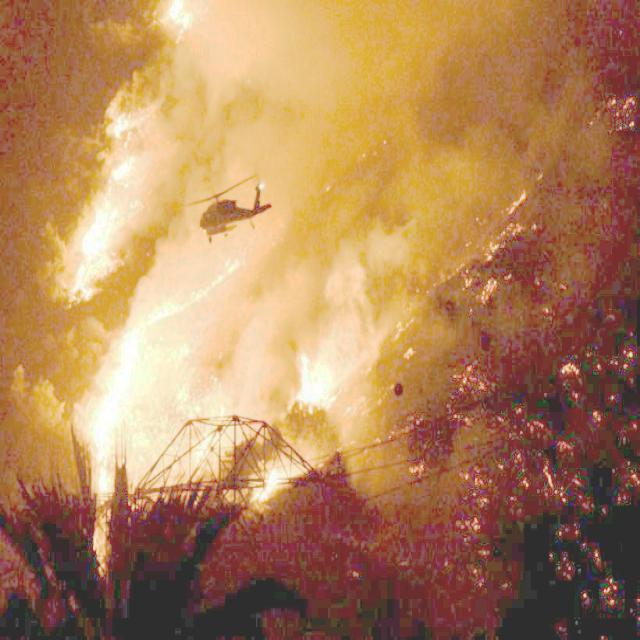api: (61, 99, 153, 310), (77, 312, 159, 495), (145, 248, 252, 329), (290, 342, 351, 422), (156, 1, 207, 48), (252, 462, 281, 514)
asap: (121, 1, 517, 373), (309, 125, 522, 392), (223, 256, 327, 421), (107, 59, 185, 119)
